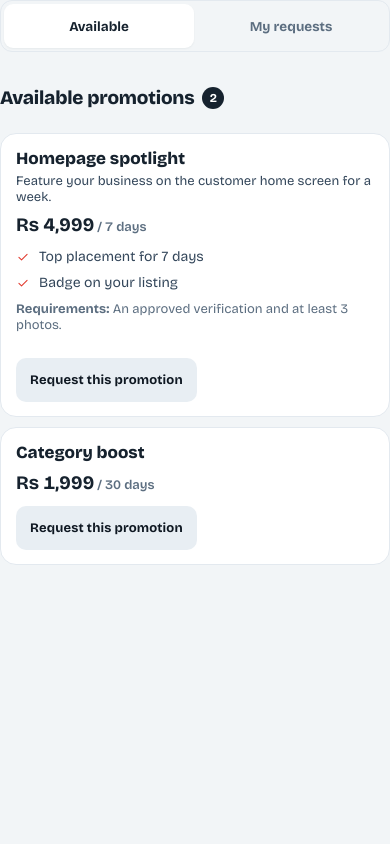
Test: OwnerPromotions (request flow) › surfaces request API errors without losing the catalog
Click the button "Request this promotion" below "Rs 1,999". click: [106, 528]
box: [16,506,197,550]
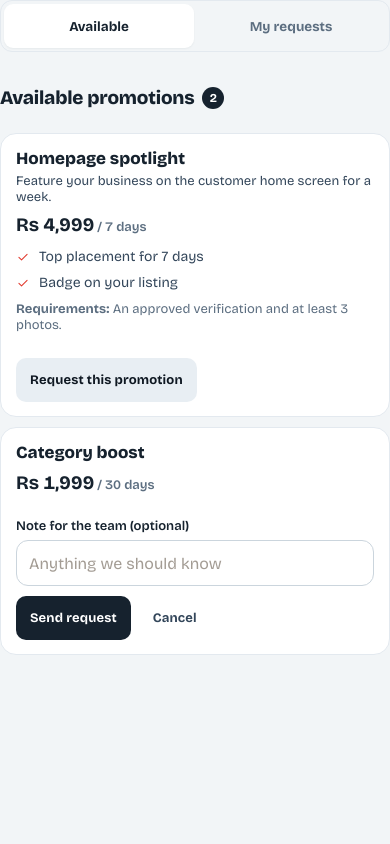
Click the button "Send request". click: [73, 618]
box: [16,596,131,640]
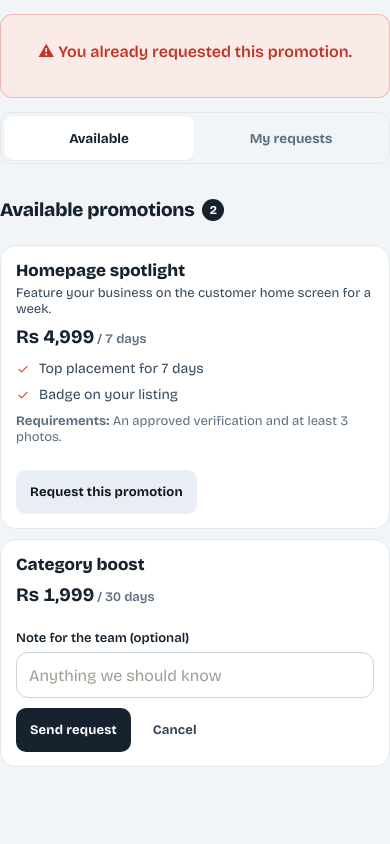
Expected: the element "Homepage spotlight" is shown, [0,245,389,529]
Now the text "⚠ You already requested this promotion." is shown, box [21,41,369,61]
